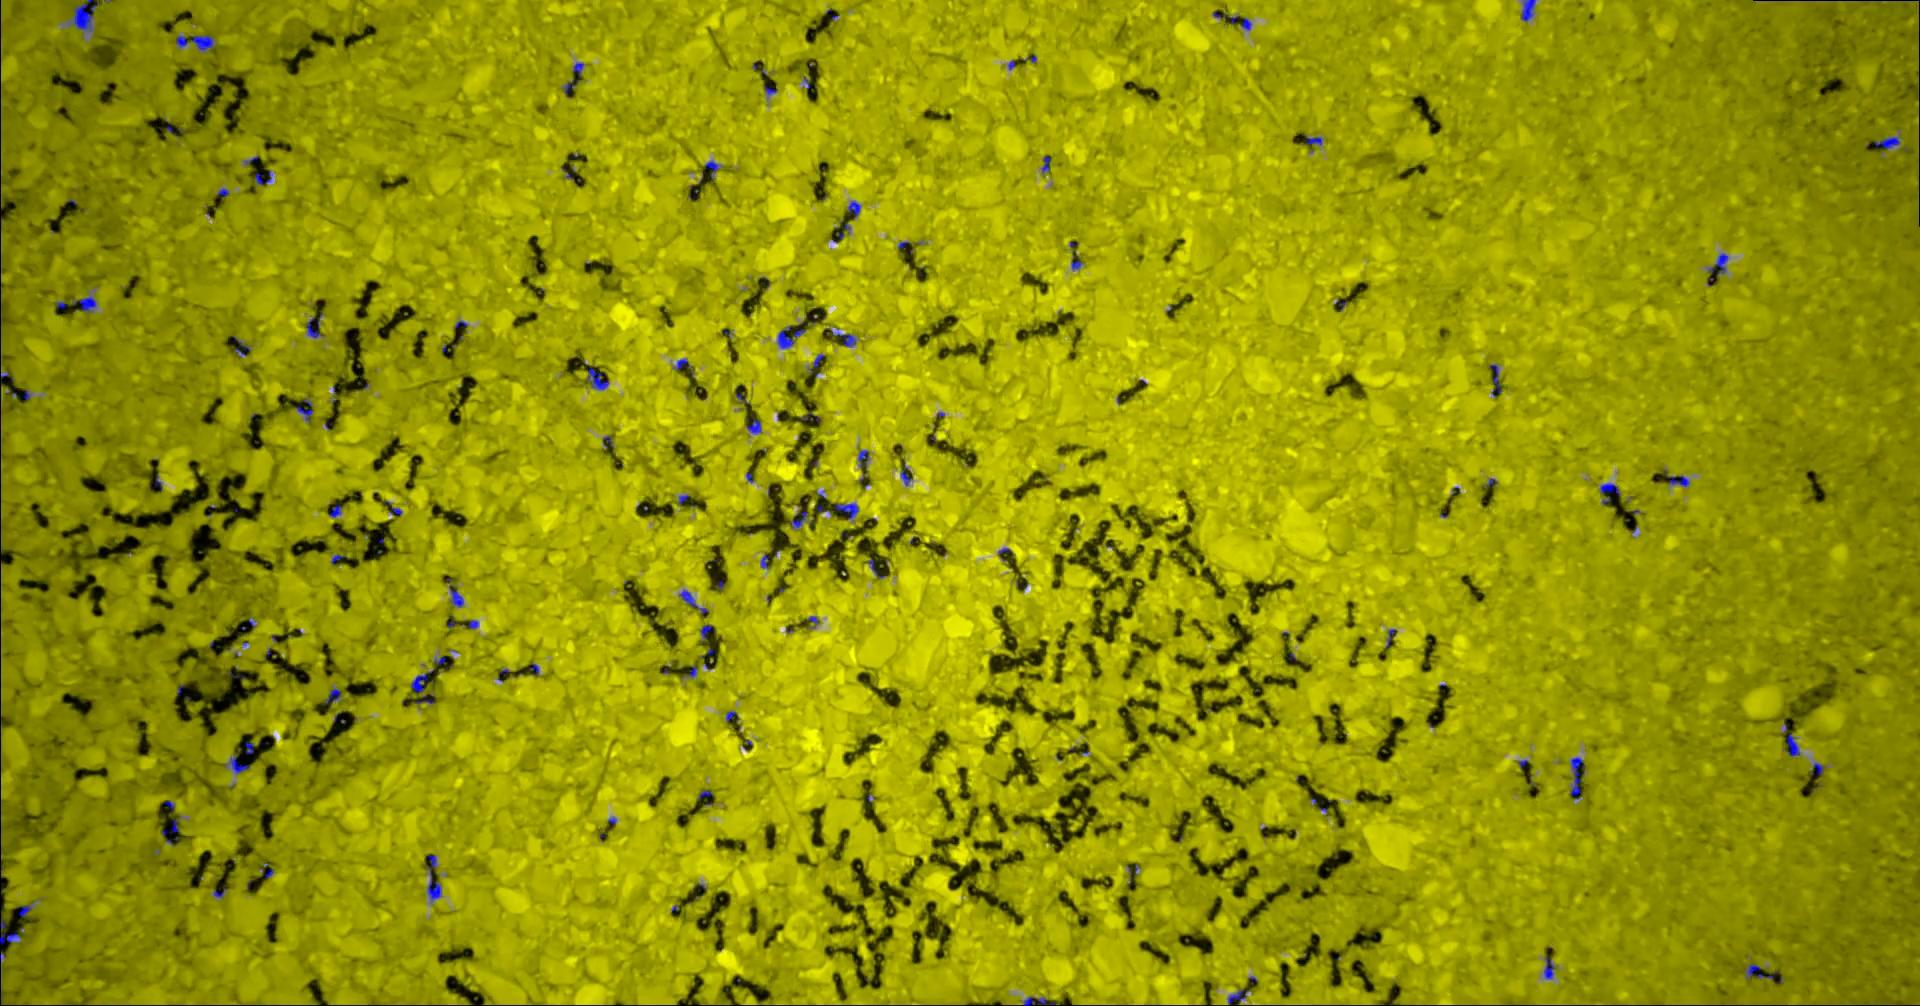ant: (69, 0, 98, 32), (678, 589, 709, 614), (425, 854, 441, 901), (777, 323, 805, 348), (1570, 756, 1585, 799), (175, 34, 213, 50), (444, 577, 463, 607), (585, 366, 608, 389), (410, 669, 433, 692), (0, 920, 20, 944), (1705, 253, 1727, 274), (223, 754, 248, 774), (295, 398, 312, 423), (161, 818, 178, 845), (1743, 963, 1771, 978), (1599, 483, 1619, 503), (1488, 365, 1501, 396), (72, 295, 97, 311), (833, 503, 858, 518), (833, 328, 855, 345), (232, 335, 250, 356), (808, 353, 824, 375), (1665, 473, 1689, 486), (1785, 733, 1799, 756), (305, 318, 321, 337), (1227, 988, 1246, 1005), (1520, 0, 1535, 20), (1874, 136, 1898, 149), (790, 511, 808, 527), (1023, 996, 1054, 1005), (703, 160, 717, 179), (1543, 956, 1554, 979), (324, 687, 340, 702), (857, 448, 869, 470), (847, 199, 860, 218), (900, 465, 912, 485), (745, 418, 759, 433), (254, 171, 270, 184), (700, 624, 712, 640), (673, 358, 690, 370), (328, 504, 342, 517), (260, 862, 273, 876), (17, 904, 30, 917), (1810, 762, 1823, 774), (1041, 155, 1050, 173), (1305, 135, 1321, 145)
